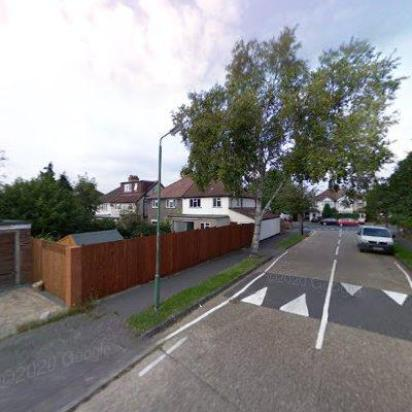moving-car: (337, 217, 359, 227), (320, 215, 338, 226)
stationary-car-offstreet: (309, 215, 319, 223)
stationary-light-truck-onstreet: (353, 223, 397, 257)
